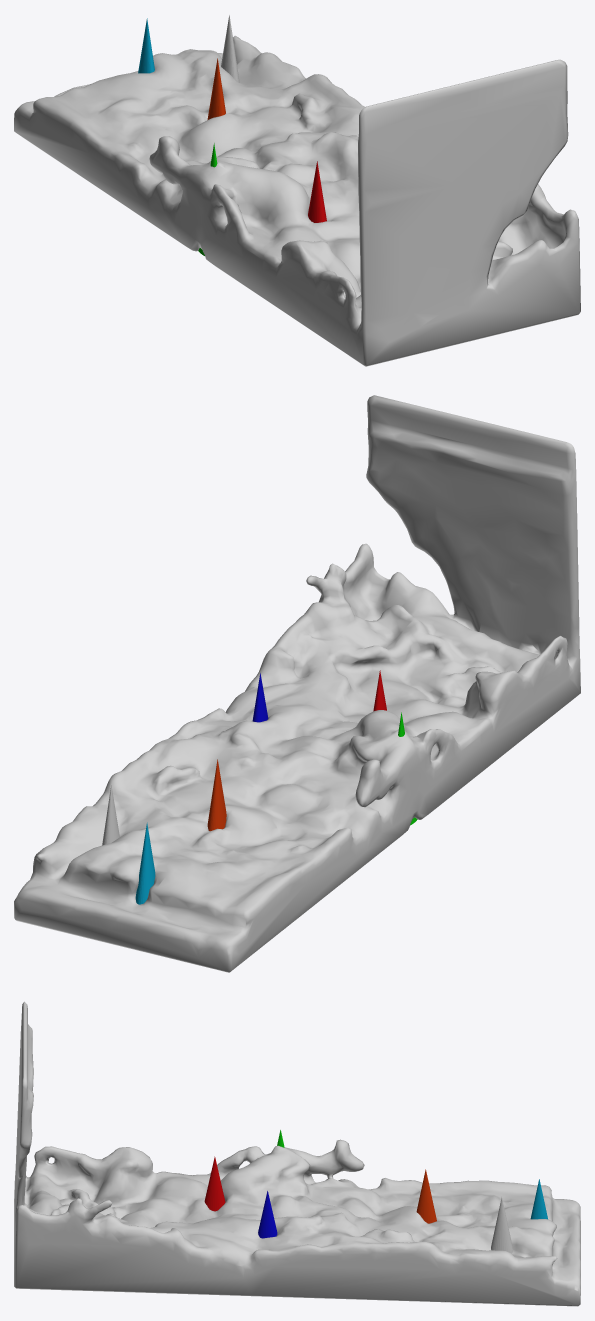
3 views of the same model, one above another, from view 1: azimuth 30°, elevation 25°; view 2: azimuth 150°, elevation 25°; view 3: azimuth 270°, elevation 25° (orthographic). The views are drawn at different scales.
Parts seen in each view (by area): view 1: Liquid_Domain, 円錐.001, 円錐, 円錐.004, 円錐.005; view 2: Liquid_Domain, 円錐.005, 円錐.004; view 3: Liquid_Domain, 円錐, 円錐.001, 円錐.004, 円錐.002.
Boxes of the visible parts, box(x1,y1,x2,y2) form: Liquid_Domain: box(14, 35, 580, 366); 円錐.001: box(308, 161, 326, 222); 円錐: box(221, 15, 239, 82); 円錐.004: box(207, 58, 225, 119); 円錐.005: box(138, 18, 154, 73); Liquid_Domain: box(14, 395, 580, 972); 円錐.005: box(135, 822, 155, 904); 円錐.004: box(207, 759, 226, 831); Liquid_Domain: box(14, 1001, 580, 1306); 円錐: box(491, 1197, 512, 1253); 円錐.001: box(204, 1156, 225, 1211); 円錐.004: box(416, 1169, 436, 1223); 円錐.002: box(258, 1191, 277, 1238).
Bounding box in the file's own units: 129 × 158 × 361.
